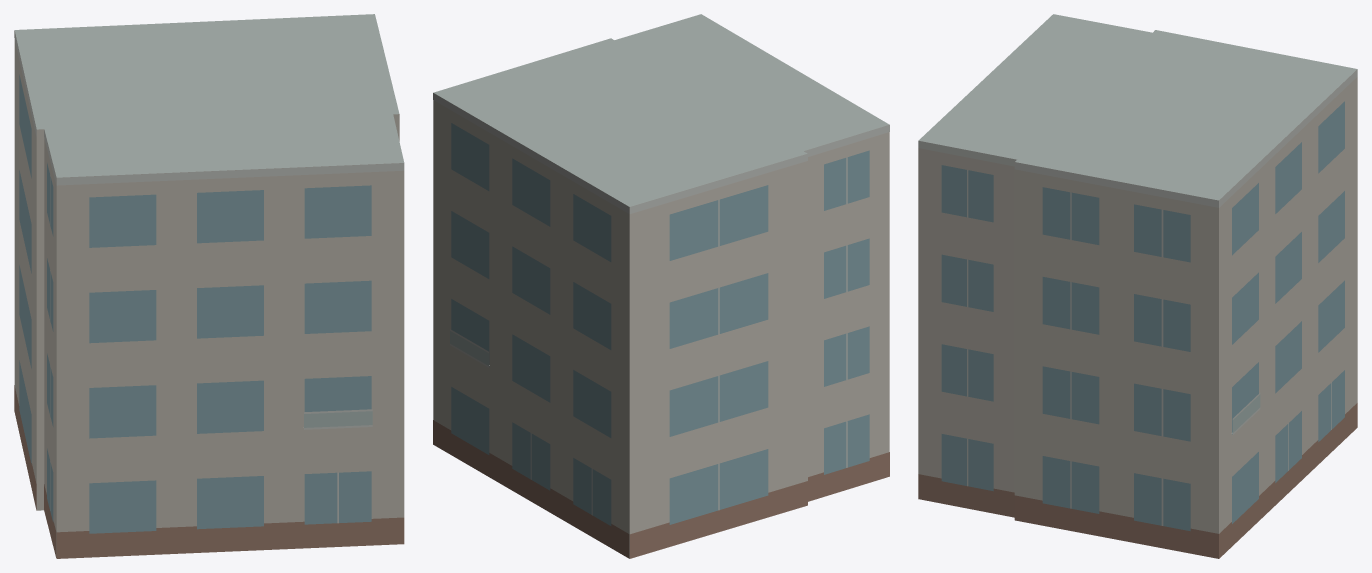
File: survey-upis-32656828.glb
3 views of the same model, side by side, from view 1: azimuth 30°, elevation 25°; view 2: azimuth 150°, elevation 25°; view 3: azimuth 270°, elevation 25° (orthographic). The views are drawn at different scales.
Visible parts, largest first — view 1: survey-upis-32656828.tmp; view 2: survey-upis-32656828.tmp; view 3: survey-upis-32656828.tmp.
Part boxes in pixels (<box>): survey-upis-32656828.tmp: <box>14,14,404,558</box>; survey-upis-32656828.tmp: <box>433,14,889,558</box>; survey-upis-32656828.tmp: <box>918,14,1357,558</box>.
Bounding box in the file's own units: 13.24 × 11.85 × 13.18.
